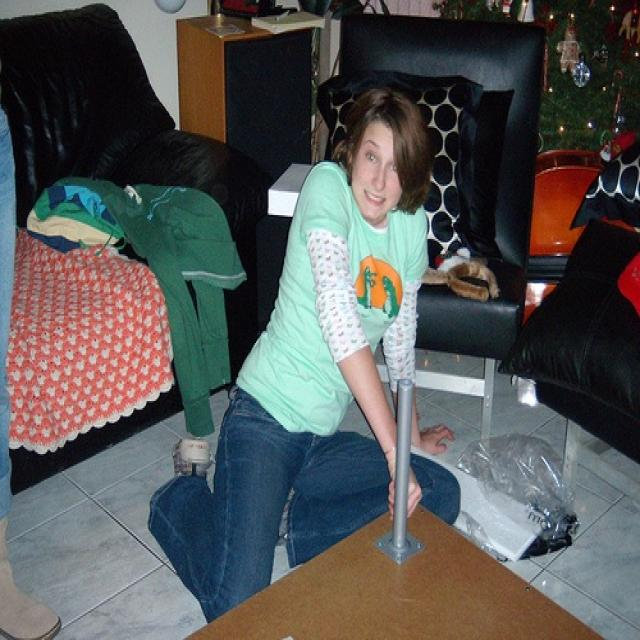chair: (322, 8, 532, 450)
sofa: (0, 2, 268, 500)
